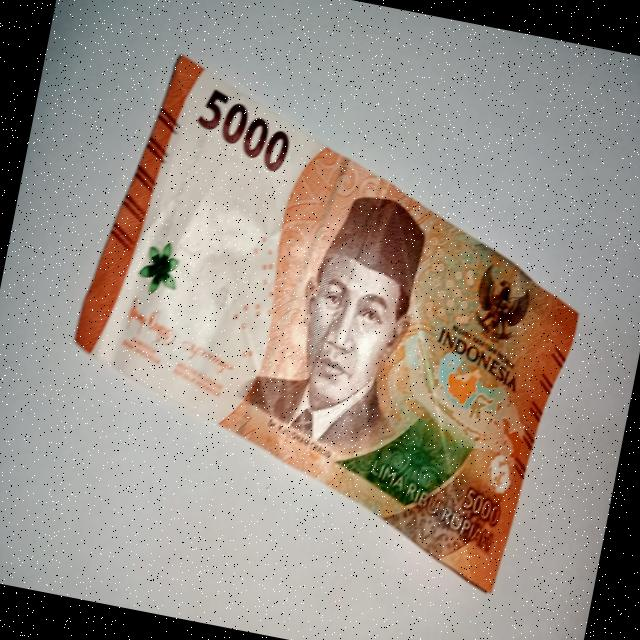5K: (33, 16, 622, 611)
